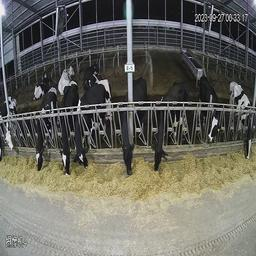cow: (73, 80, 114, 169), (154, 77, 187, 172), (121, 76, 148, 175), (227, 80, 252, 161), (35, 87, 57, 172), (59, 78, 77, 177), (198, 75, 219, 144), (5, 98, 19, 151), (82, 62, 105, 91), (56, 64, 77, 93), (33, 74, 50, 97)
